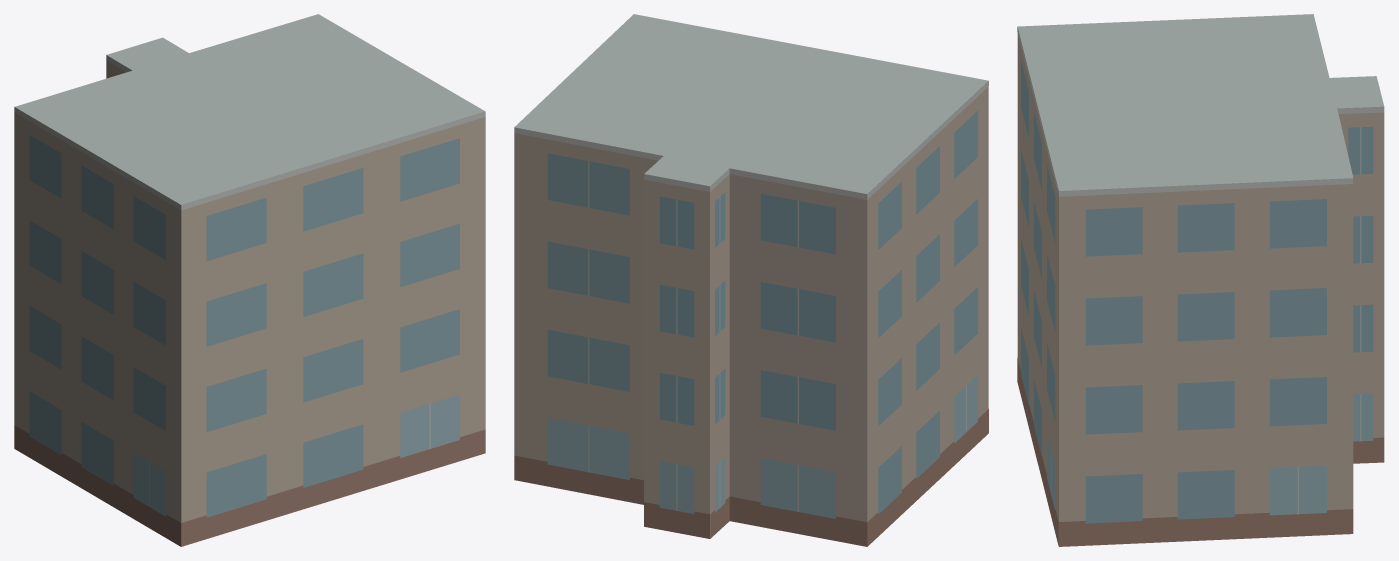
File: survey-upis-32674837.glb
3 renders of one model, left to right at view 1: azimuth 30°, elevation 25°; view 2: azimuth 150°, elevation 25°; view 3: azimuth 270°, elevation 25°, orthographic. The views are drawn at different scales.
Parts seen in each view (by area): view 1: survey-upis-32674837.tmp; view 2: survey-upis-32674837.tmp; view 3: survey-upis-32674837.tmp.
Part boxes in pixels (left/top/right/bottom): survey-upis-32674837.tmp: left=14, top=14, right=485, bottom=546; survey-upis-32674837.tmp: left=514, top=14, right=988, bottom=546; survey-upis-32674837.tmp: left=1017, top=14, right=1384, bottom=546.
Bounding box in the file's own units: 16.07 × 15.05 × 14.07.
